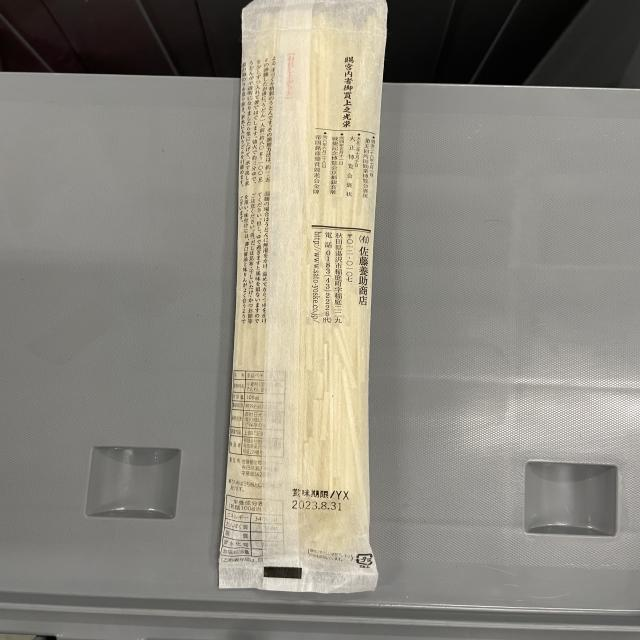object_name: (240, 2, 364, 577)
